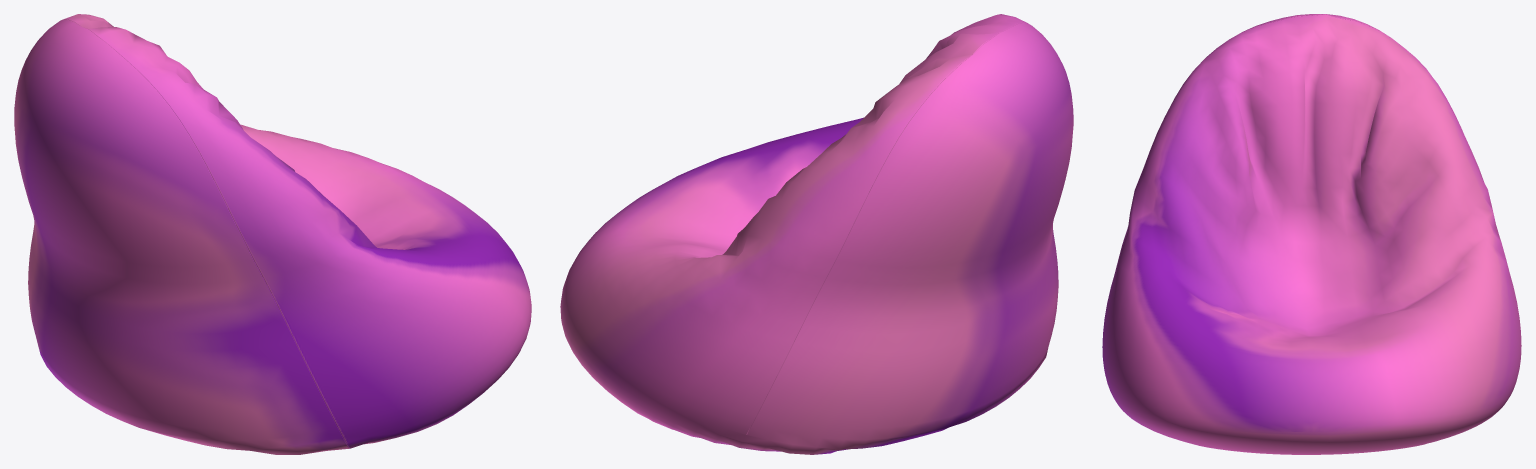
The model's file is beanbag.glb.
The picture shows the model from 3 angles, left to right: view 1: azimuth 30°, elevation 25°; view 2: azimuth 150°, elevation 25°; view 3: azimuth 270°, elevation 25°; orthographic projection. The views are drawn at different scales.
Parts seen in each view (by area): view 1: Red; view 2: Red; view 3: Red.
Part boxes in pixels (<box>): Red: <box>14,14,531,454</box>; Red: <box>560,14,1073,454</box>; Red: <box>1102,14,1521,454</box>.
Size of the model in its own units: 2.49 by 1.91 by 2.39.
1 material, 1 textured.
